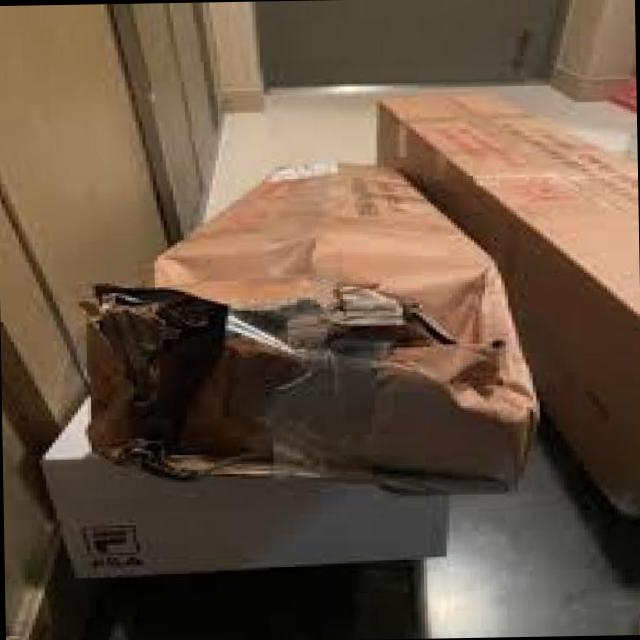crushed: (90, 284, 437, 483), (437, 268, 534, 497)
